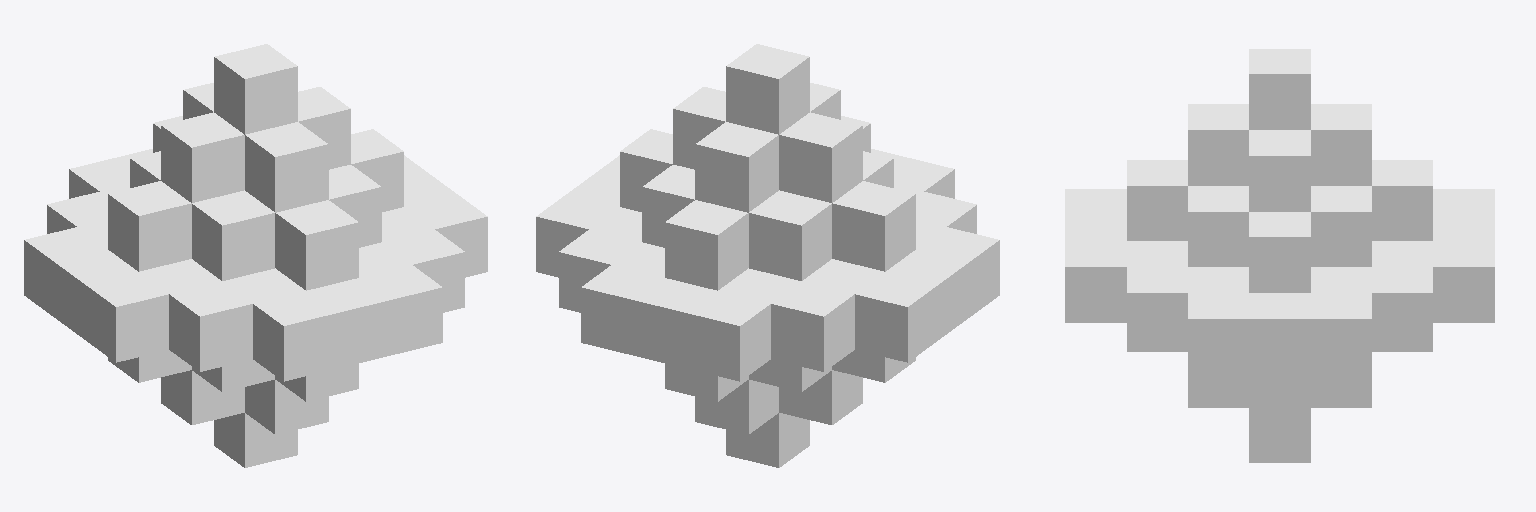
File: moon.obj
3 renders of one model, left to right at view 1: azimuth 30°, elevation 25°; view 2: azimuth 150°, elevation 25°; view 3: azimuth 270°, elevation 25°, orthographic.
Visible parts, largest first — view 1: moon; view 2: moon; view 3: moon.
Part boxes in pixels (bbox=[...]): moon: bbox=[24, 44, 487, 467]; moon: bbox=[536, 44, 999, 467]; moon: bbox=[1065, 49, 1494, 462].
Size of the model in its own units: 7 by 7 by 7.